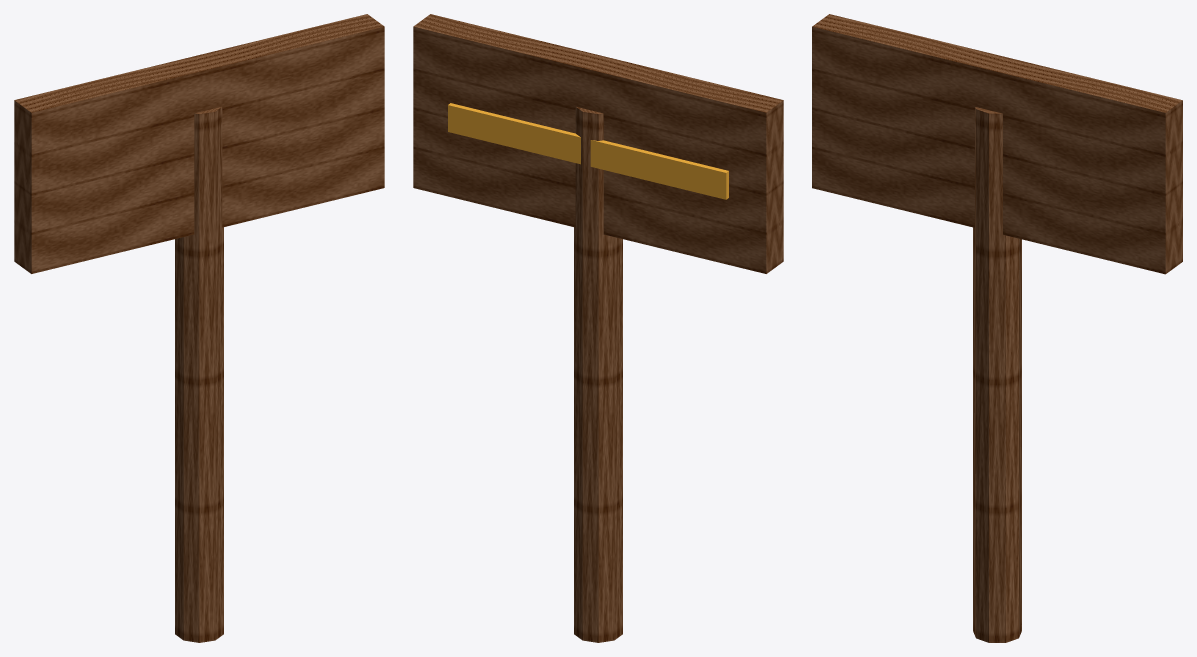
The model's file is trail_sign.obj.
The picture shows the model from 3 angles, left to right: view 1: azimuth 30°, elevation 25°; view 2: azimuth 150°, elevation 25°; view 3: azimuth 330°, elevation 25°; orthographic projection.
Parts seen in each view (by area): view 1: SignBoard, Post; view 2: SignBoard, Post, PaintMark; view 3: SignBoard, Post.
Boxes of the visible parts, box(x1,y1,x2,y2) form: SignBoard: box(14, 14, 384, 273); Post: box(175, 107, 223, 642); SignBoard: box(413, 14, 783, 273); Post: box(574, 107, 622, 642); PaintMark: box(448, 103, 728, 199); SignBoard: box(812, 14, 1182, 274); Post: box(973, 107, 1021, 642).
Size of the model in its own units: 1.65 by 2.54 by 0.197.
Materials: 2 (1 with a texture image).
